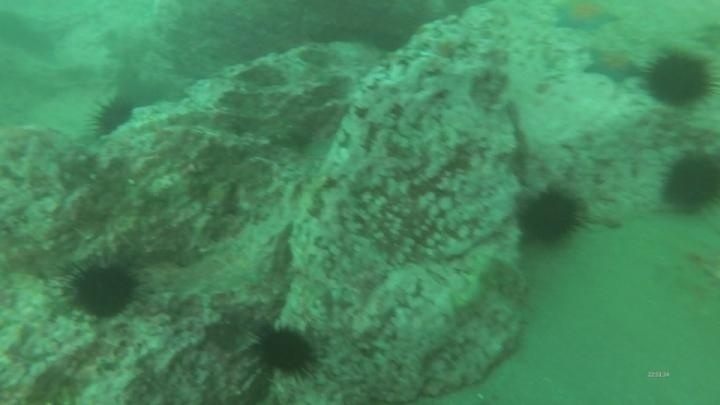echinus: (62, 256, 142, 322), (514, 184, 588, 249), (642, 48, 717, 111), (657, 147, 720, 218), (250, 321, 322, 381), (89, 94, 137, 138)
holothurian: (448, 251, 528, 318)
starfish: (582, 46, 644, 87), (551, 1, 623, 36)
